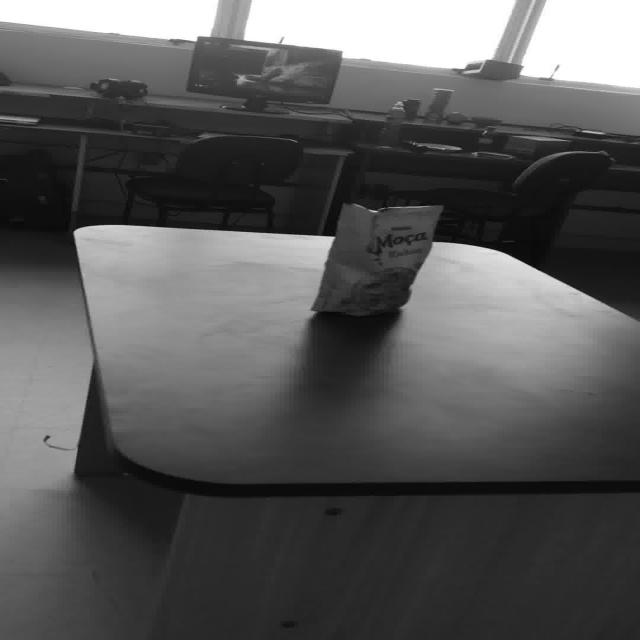corn flakes: (308, 201, 442, 316)
